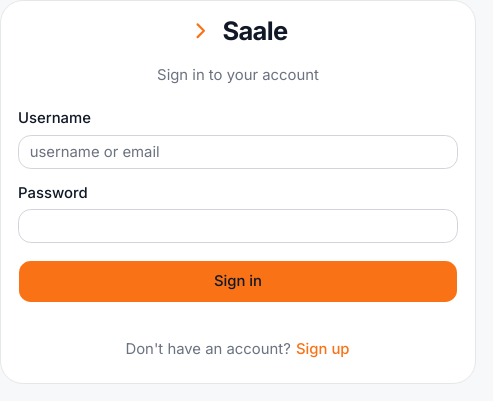
sign-in form › asks for a two-factor code after a password-only sign-in
In the field labelled "Username": (238, 152) [18,135,458,169], type "ada.lovelace"
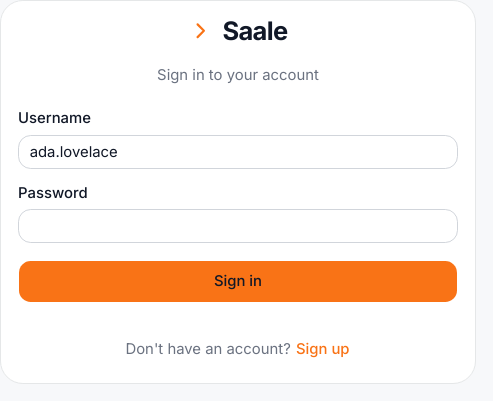
In the password field labelled "Password": (238, 226) [18,209,458,243], type "correct horse"
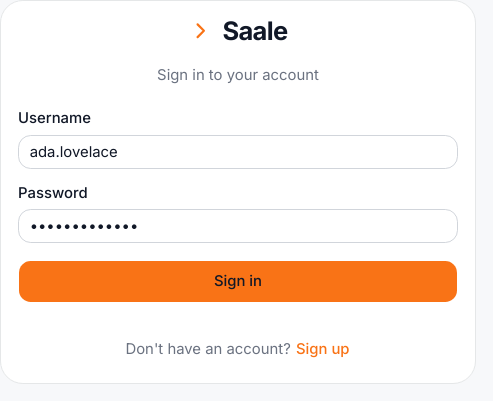
Click the button "Sign in": (238, 281) [18,260,458,303]
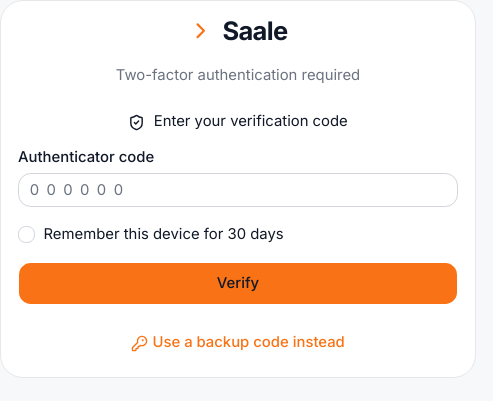
Expected: the field labelled "Authenticator code" is shown, [18,173,458,207]
Expected: the label labelled "Password" is gone
